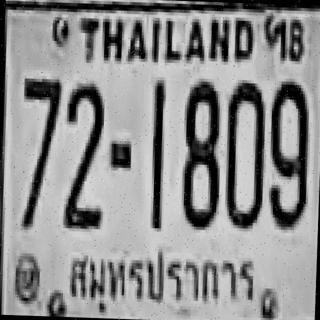N00: (222, 80, 264, 226)
N01: (148, 78, 164, 209)
N02: (61, 96, 105, 228), (62, 81, 104, 213)
N07: (16, 75, 61, 222), (19, 75, 61, 204), (20, 75, 61, 189), (20, 75, 61, 177)
N08: (178, 78, 220, 227)
N09: (265, 78, 310, 228)
P57: (57, 238, 265, 320)
